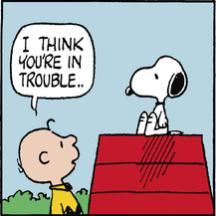charlie: (17, 118, 85, 216)
snoopy: (124, 54, 188, 138)
